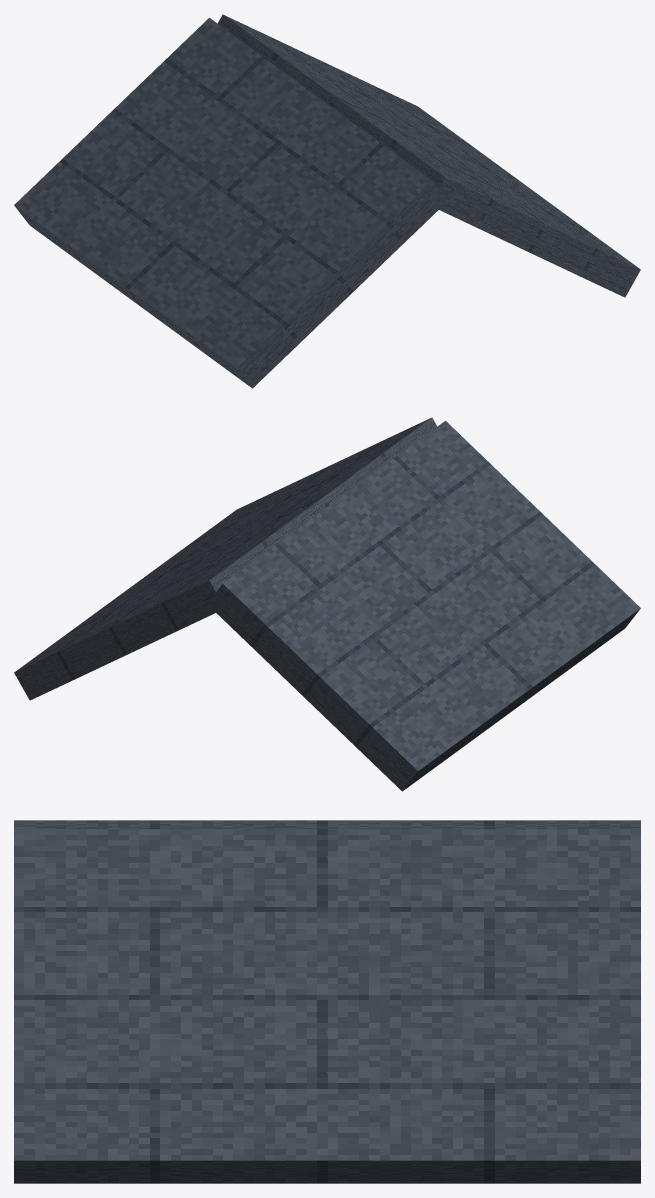
File: roof_module.glb
3 renders of one model, top to bottom at view 1: azimuth 30°, elevation 25°; view 2: azimuth 150°, elevation 25°; view 3: azimuth 270°, elevation 25°, orthographic. The views are drawn at different scales.
Parts seen in each view (by area): view 1: roof_left, roof_right; view 2: roof_left, roof_right; view 3: roof_right, roof_left.
Boxes of the visible parts, x1=… form: roof_left: x1=14, y1=18, x2=446, y2=388; roof_right: x1=217, y1=14, x2=640, y2=297; roof_left: x1=207, y1=421, x2=640, y2=791; roof_right: x1=14, y1=417, x2=437, y2=700; roof_right: x1=14, y1=829, x2=640, y2=1183; roof_left: x1=14, y1=820, x2=640, y2=829.
Bounding box in the file's own units: 2.3 × 0.8943 × 2.2.
1 material, 1 textured.
